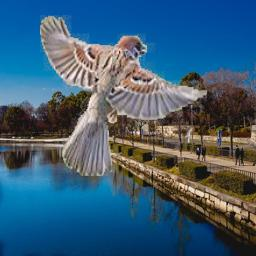Sparrow: (40, 15, 207, 176)
